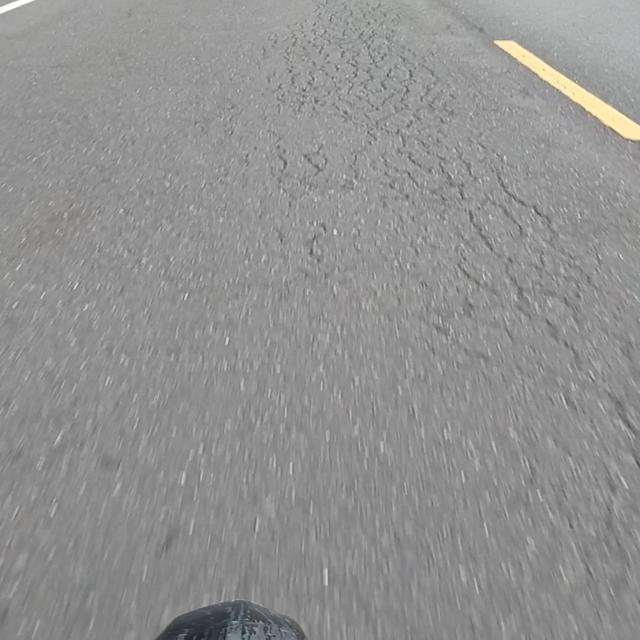Retak Buaya: (261, 0, 602, 350)
